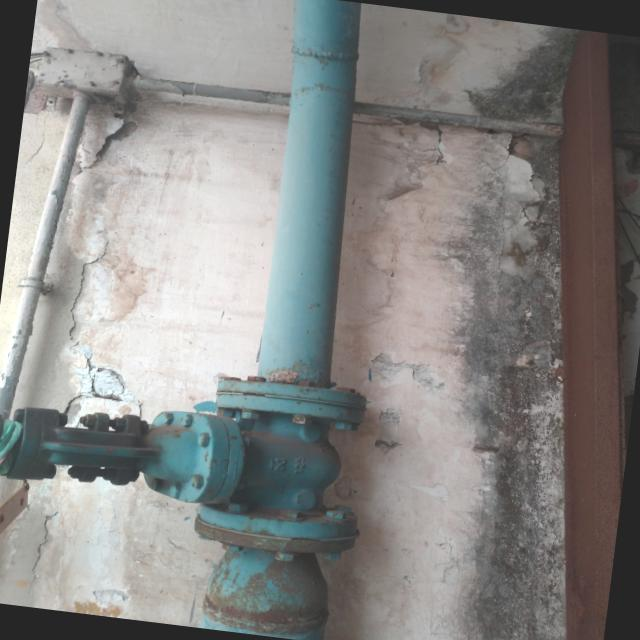gas: (214, 1, 362, 632)
